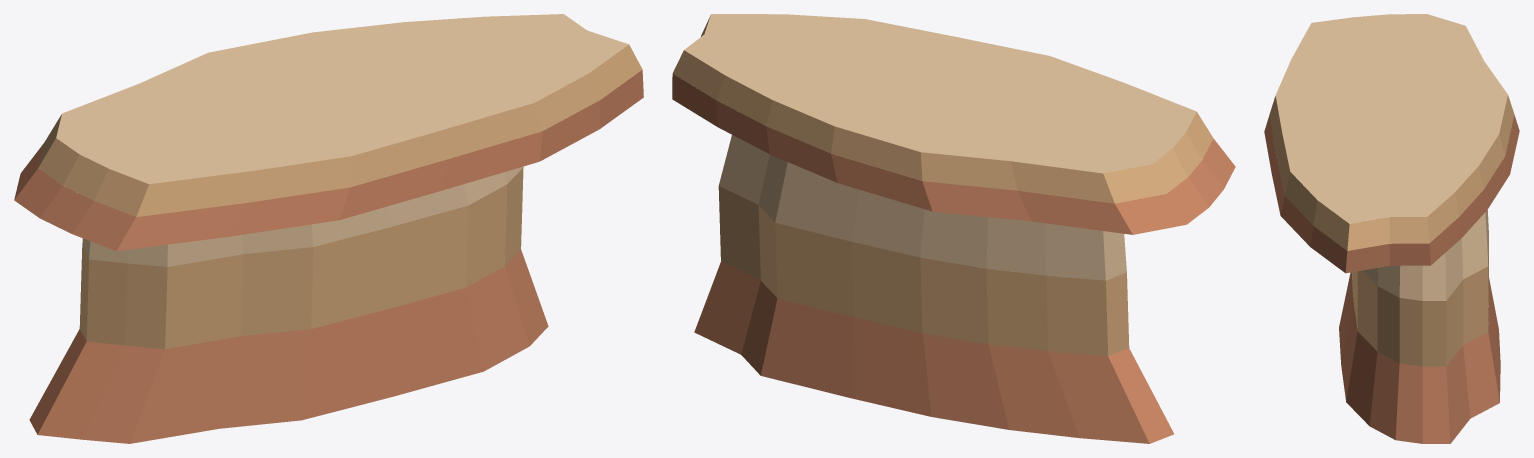
File: desert-canyons-and-oases-cap-rock-ledge-f9199f1c__20904.glb
The picture shows the model from 3 angles, left to right: view 1: azimuth 30°, elevation 25°; view 2: azimuth 150°, elevation 25°; view 3: azimuth 270°, elevation 25°; orthographic projection. The views are drawn at different scales.
Parts seen in each view (by area): view 1: cap-rock-ledge; view 2: cap-rock-ledge; view 3: cap-rock-ledge.
Part boxes in pixels (x1,y1,x2,y2): cap-rock-ledge: (14, 14, 643, 443); cap-rock-ledge: (672, 14, 1235, 443); cap-rock-ledge: (1264, 14, 1519, 443).
Size of the model in its own units: 6.68 by 3.2 by 3.12.
